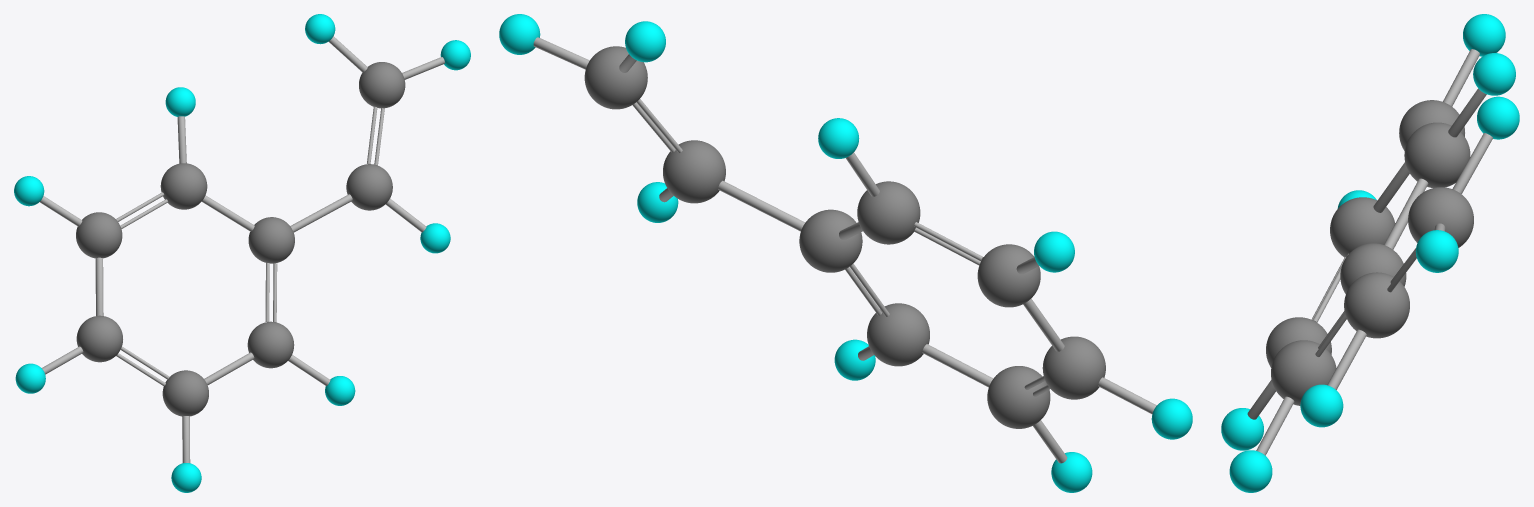
File: styrene.glb
3 views of the same model, side by side, from view 1: azimuth 30°, elevation 25°; view 2: azimuth 150°, elevation 25°; view 3: azimuth 270°, elevation 25° (orthographic). The views are drawn at different scales.
Visible parts, largest first — view 1: CMAtom_1, CMAtom_13, CMAtom_0, CMAtom_5, CMAtom_11, CMAtom_3, CMAtom_4, CMAtom_2, CMAtom_10, CMAtom_7, CMAtom_9, CMAtom_14 (+6 smaller); view 2: CMAtom_11, CMAtom_3, CMAtom_0, CMAtom_4, CMAtom_5, CMAtom_2, CMAtom_1, CMAtom_13, CMAtom_10, CMAtom_6, CMAtom_7, CMAtom_14 (+6 smaller); view 3: CMAtom_11, CMAtom_0, CMAtom_3, CMAtom_13, CMAtom_4, CMAtom_1, CMAtom_5, CMAtom_12, CMAtom_8, CMAtom_7, CMAtom_15, CMAtom_14 (+12 smaller).
Part boxes in pixels (<box>): CMAtom_1: <box>248,217,294,263</box>; CMAtom_13: <box>359,62,405,108</box>; CMAtom_0: <box>160,163,207,209</box>; CMAtom_5: <box>162,370,208,416</box>; CMAtom_11: <box>346,164,392,210</box>; CMAtom_3: <box>247,321,294,368</box>; CMAtom_4: <box>76,315,122,362</box>; CMAtom_2: <box>76,212,122,258</box>; CMAtom_10: <box>15,363,45,393</box>; CMAtom_7: <box>165,87,195,116</box>; CMAtom_9: <box>171,463,201,492</box>; CMAtom_14: <box>305,14,335,44</box>; CMAtom_11: <box>663,140,725,203</box>; CMAtom_3: <box>867,303,929,366</box>; CMAtom_0: <box>857,181,920,244</box>; CMAtom_4: <box>1042,336,1105,399</box>; CMAtom_5: <box>987,366,1050,428</box>; CMAtom_2: <box>977,244,1040,307</box>; CMAtom_1: <box>799,209,862,272</box>; CMAtom_13: <box>584,46,647,109</box>; CMAtom_10: <box>1151,398,1192,439</box>; CMAtom_6: <box>1034,231,1074,272</box>; CMAtom_7: <box>818,118,859,158</box>; CMAtom_14: <box>625,21,665,62</box>; CMAtom_11: <box>1344,272,1409,338</box>; CMAtom_0: <box>1404,122,1470,187</box>; CMAtom_3: <box>1271,340,1336,405</box>; CMAtom_13: <box>1408,187,1473,247</box>; CMAtom_4: <box>1330,197,1395,257</box>; CMAtom_1: <box>1340,243,1406,294</box>; CMAtom_5: <box>1266,317,1331,367</box>; CMAtom_12: <box>1300,384,1343,427</box>; CMAtom_8: <box>1229,450,1272,492</box>; CMAtom_7: <box>1473,53,1515,95</box>; CMAtom_15: <box>1415,230,1458,272</box>; CMAtom_14: <box>1477,96,1519,139</box>.
Size of the model in its own units: 7.32 by 5.2 by 2.79.
